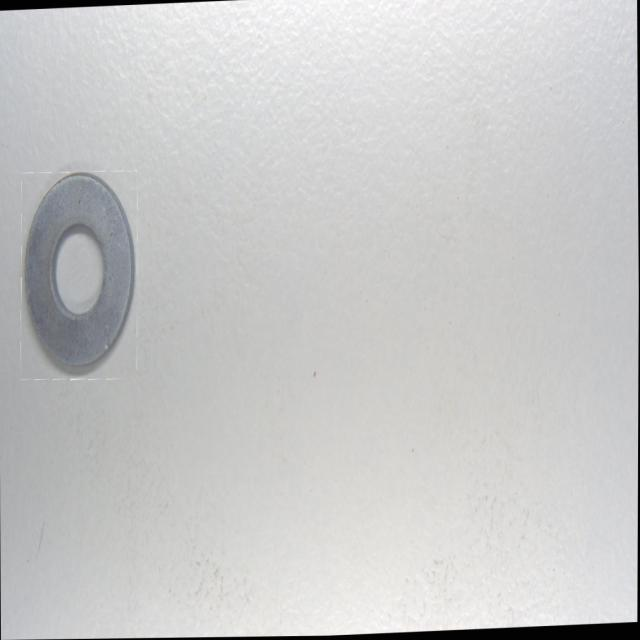washer: (20, 171, 136, 378)
